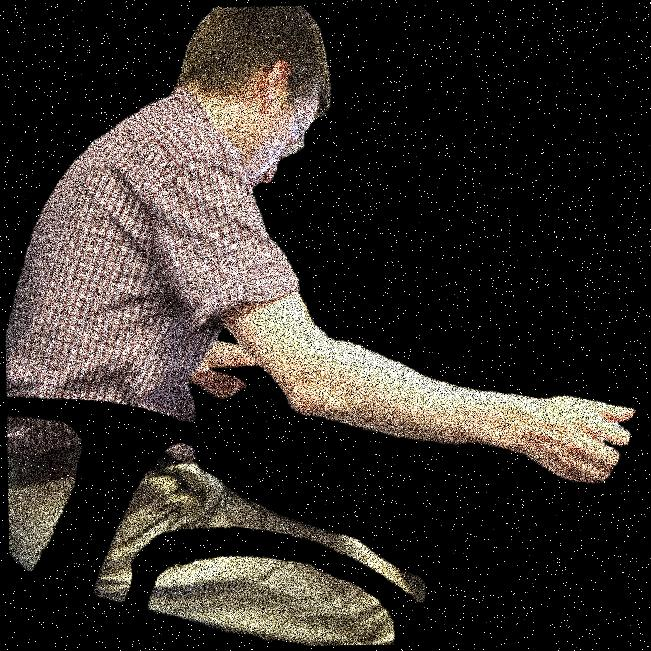Pessoa: (8, 0, 289, 650)
